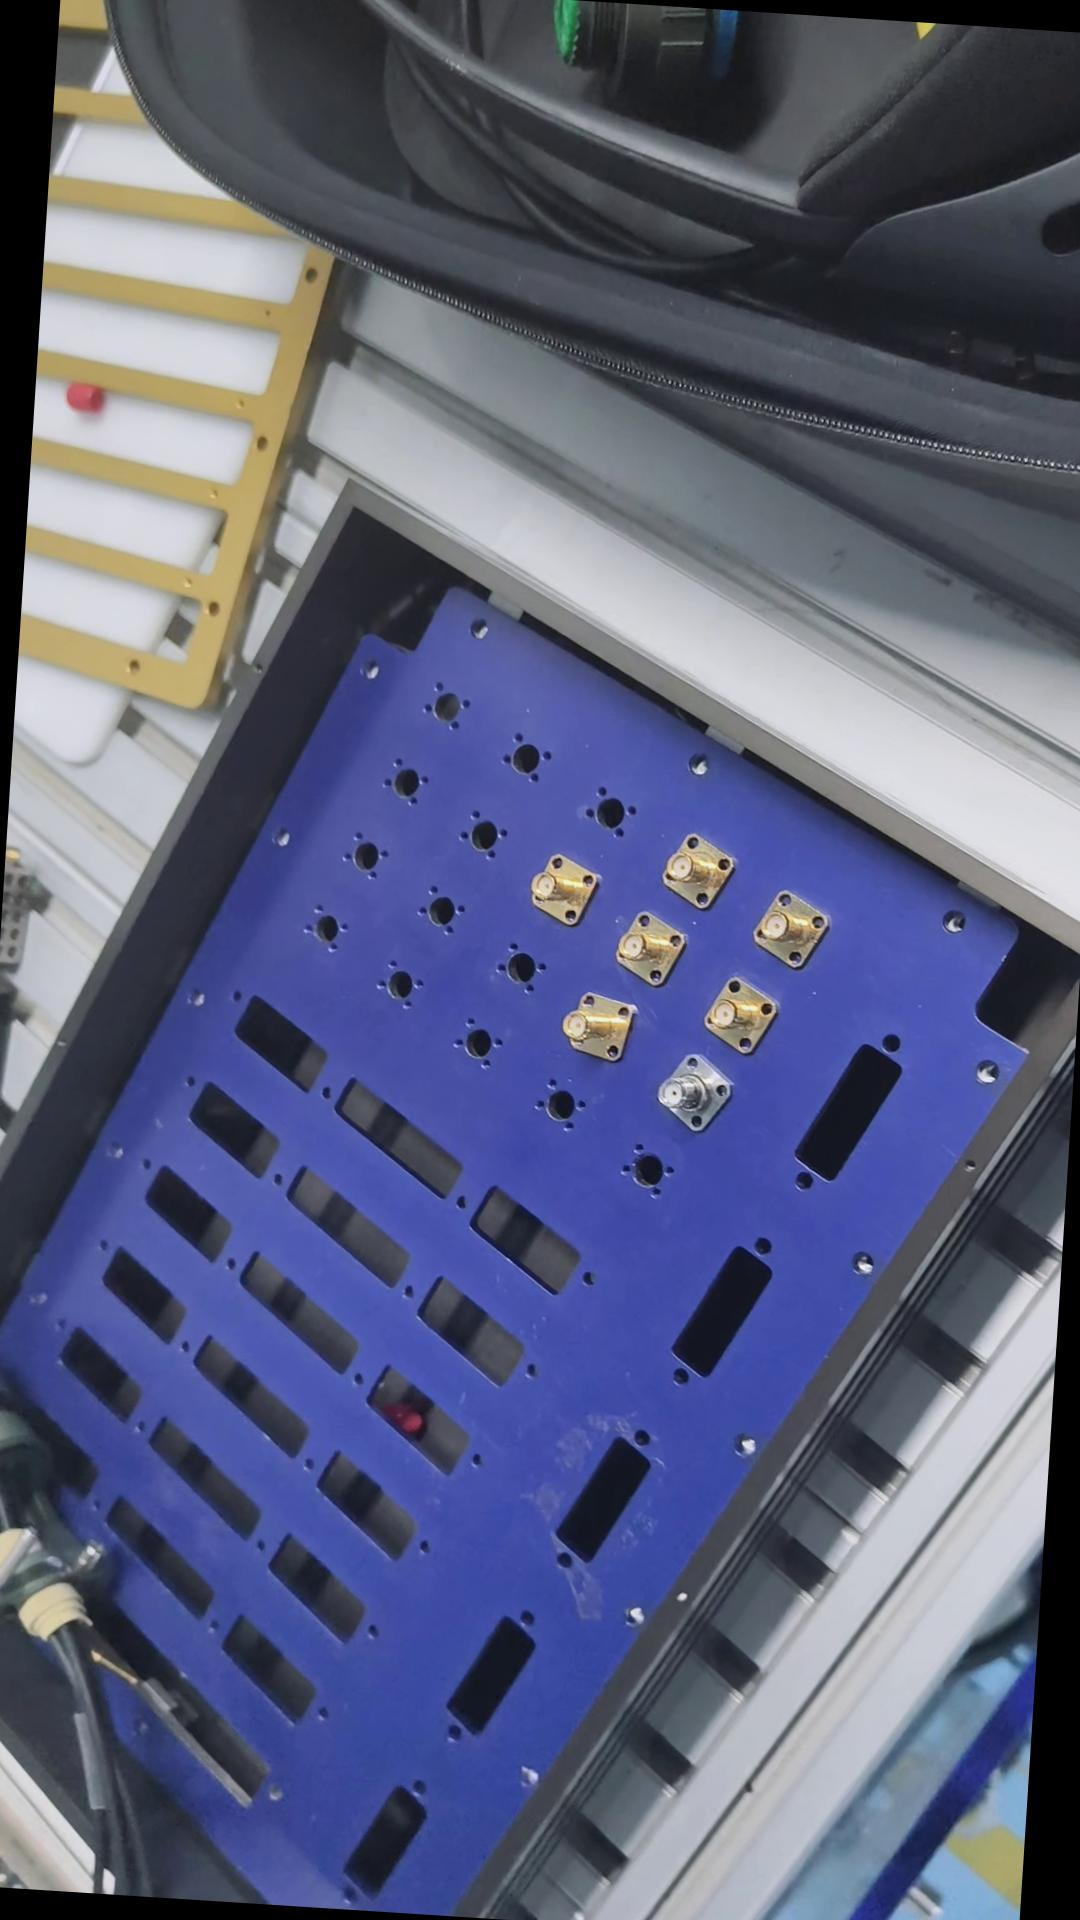SMA: (647, 1047, 735, 1131), (607, 906, 694, 989), (521, 848, 605, 931), (698, 975, 782, 1054), (745, 891, 831, 968), (553, 985, 633, 1065), (654, 827, 733, 909)
